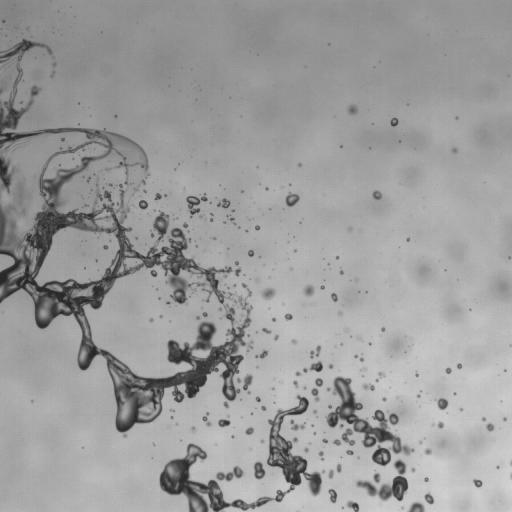droplet: (356, 459, 408, 501), (186, 194, 207, 216), (237, 374, 252, 393), (253, 461, 265, 479), (285, 192, 299, 207), (303, 361, 322, 372), (290, 419, 305, 430), (261, 288, 275, 299), (407, 502, 424, 511), (436, 398, 448, 409), (347, 500, 359, 511), (0, 79, 9, 93), (303, 285, 314, 296), (217, 198, 229, 208), (202, 413, 211, 426), (328, 489, 337, 502), (218, 418, 230, 427), (424, 493, 434, 503), (348, 104, 357, 114), (372, 190, 381, 199), (139, 200, 148, 209), (473, 479, 482, 487), (390, 118, 398, 126), (486, 423, 494, 431), (245, 427, 253, 434), (285, 313, 292, 320), (436, 421, 443, 428), (331, 293, 337, 301), (328, 469, 333, 478), (155, 193, 161, 200), (424, 448, 431, 454), (262, 328, 270, 333), (336, 464, 341, 472), (445, 367, 451, 373), (378, 372, 385, 377), (293, 380, 298, 387), (346, 450, 353, 455), (248, 250, 253, 256), (291, 339, 296, 344), (261, 405, 266, 410), (457, 363, 461, 369), (452, 148, 457, 152), (183, 223, 187, 228), (255, 225, 259, 230), (103, 245, 108, 249), (202, 312, 207, 316), (295, 371, 300, 375), (191, 426, 195, 431), (322, 438, 327, 442), (86, 177, 90, 181), (339, 270, 343, 274), (320, 285, 324, 289), (381, 327, 385, 331), (274, 335, 278, 339), (329, 364, 333, 368), (256, 397, 260, 401), (382, 397, 386, 401), (304, 448, 308, 452), (424, 477, 428, 481), (51, 72, 54, 76), (106, 167, 109, 171), (407, 237, 410, 241), (503, 417, 506, 421), (411, 468, 415, 471), (52, 63, 55, 66), (61, 138, 64, 141), (109, 183, 112, 186), (166, 301, 169, 304), (338, 312, 341, 315), (149, 318, 152, 321), (303, 386, 306, 389), (313, 410, 316, 413), (482, 417, 485, 420), (199, 215, 203, 217), (298, 164, 301, 166), (84, 204, 87, 206), (210, 218, 213, 220), (348, 228, 351, 230), (272, 318, 275, 320), (415, 374, 418, 376), (417, 394, 419, 397), (329, 405, 331, 408), (261, 440, 263, 443), (419, 441, 422, 443), (496, 466, 499, 468), (294, 249, 296, 251), (233, 284, 235, 286), (219, 308, 221, 310), (345, 329, 347, 331), (375, 379, 377, 381), (171, 409, 173, 411), (460, 408, 462, 410)
ligament: (0, 50, 252, 437), (161, 394, 323, 511), (326, 376, 414, 466), (310, 378, 323, 402), (310, 345, 321, 358), (256, 350, 267, 358), (362, 383, 374, 390), (354, 354, 363, 361), (228, 216, 234, 222), (319, 451, 323, 460), (510, 460, 511, 465), (510, 473, 511, 478)
